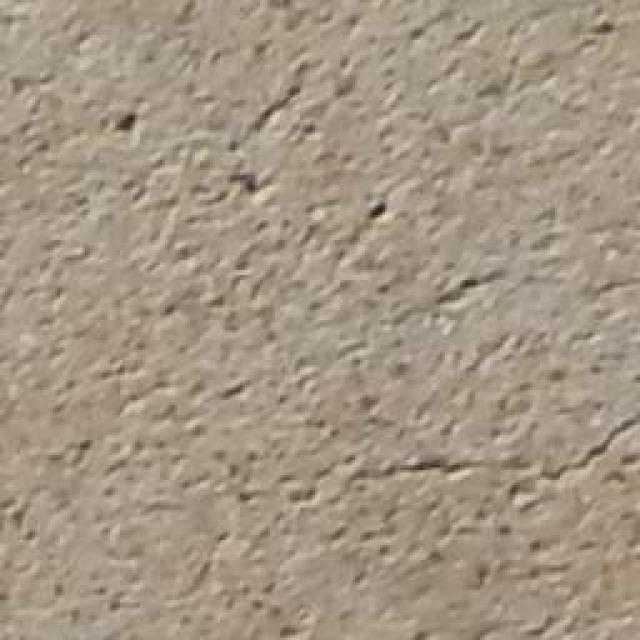concrete-crack: (301, 406, 638, 510)
